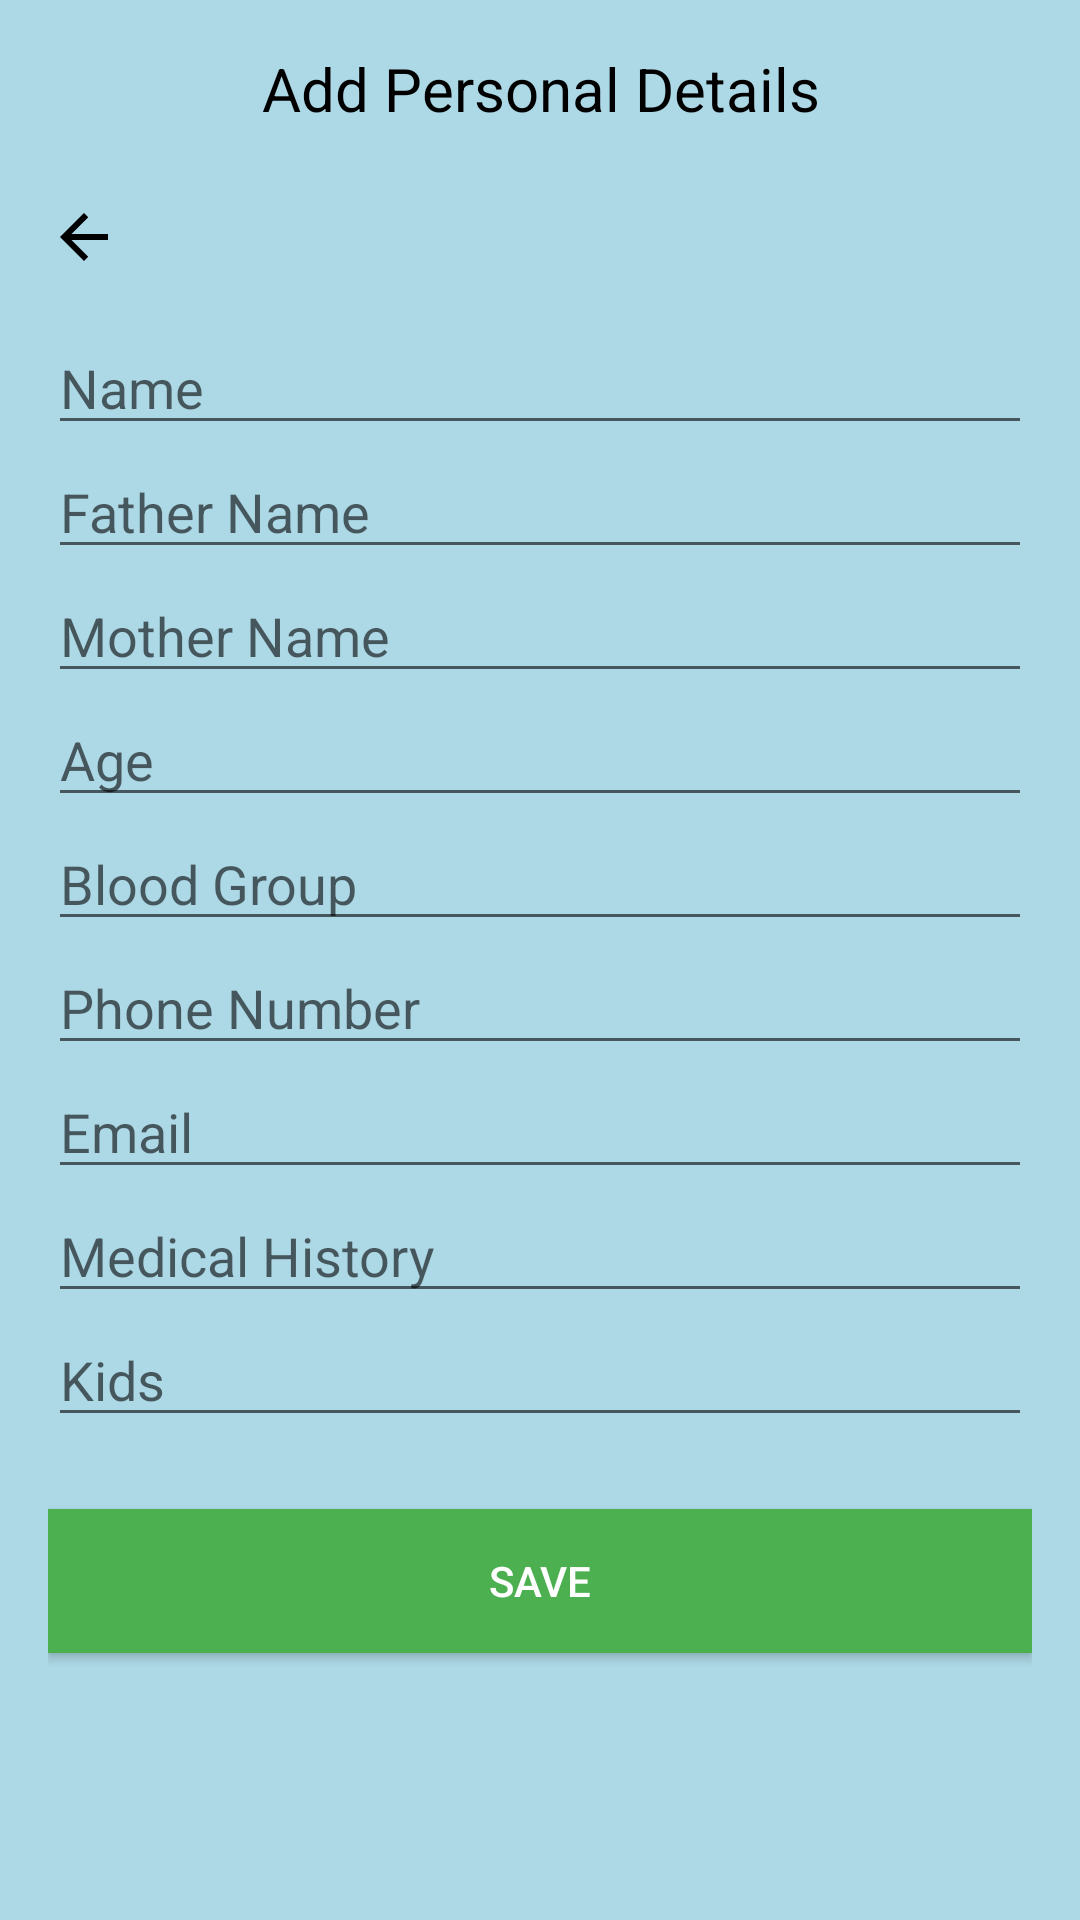

Icon click points for this 1080×1920 phone screenshot, format point (x, y):
Back: point (84, 237)
